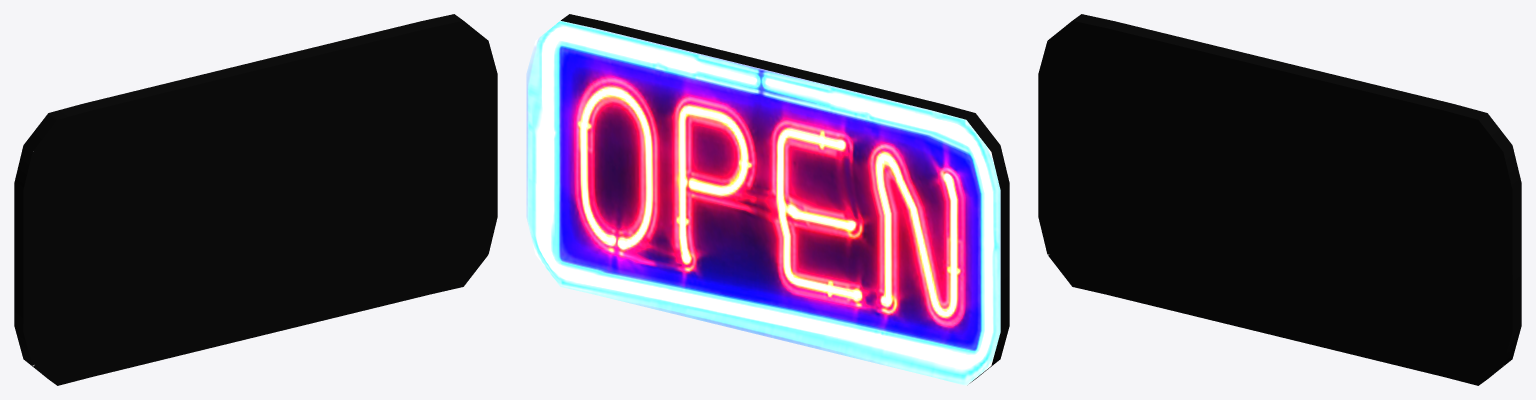
Rendered from ARC0810042.fbx.
The picture shows the model from 3 angles, left to right: view 1: azimuth 30°, elevation 25°; view 2: azimuth 150°, elevation 25°; view 3: azimuth 330°, elevation 25°; orthographic projection.
Visible parts, largest first — view 1: smARC0810042; view 2: smARC0810042; view 3: smARC0810042.
Part boxes in pixels (x1,y1,x2,y2): smARC0810042: [14, 14, 497, 385]; smARC0810042: [526, 14, 1009, 385]; smARC0810042: [1038, 14, 1521, 385].
Size of the model in its own units: 282 by 152 by 9.44.
Materials: 1 (1 with a texture image).
